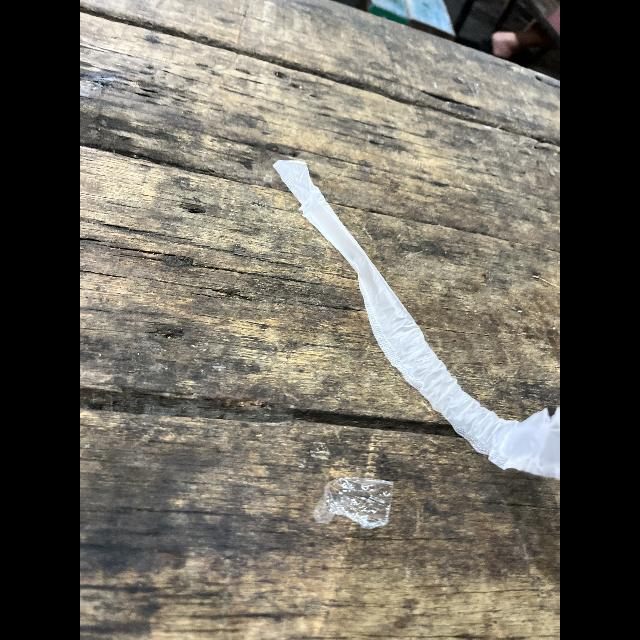scrap_plastic: (276, 155, 560, 478), (315, 474, 399, 524)
